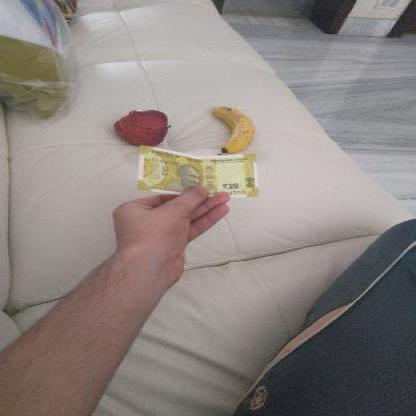New20Front: (138, 146, 264, 194)
